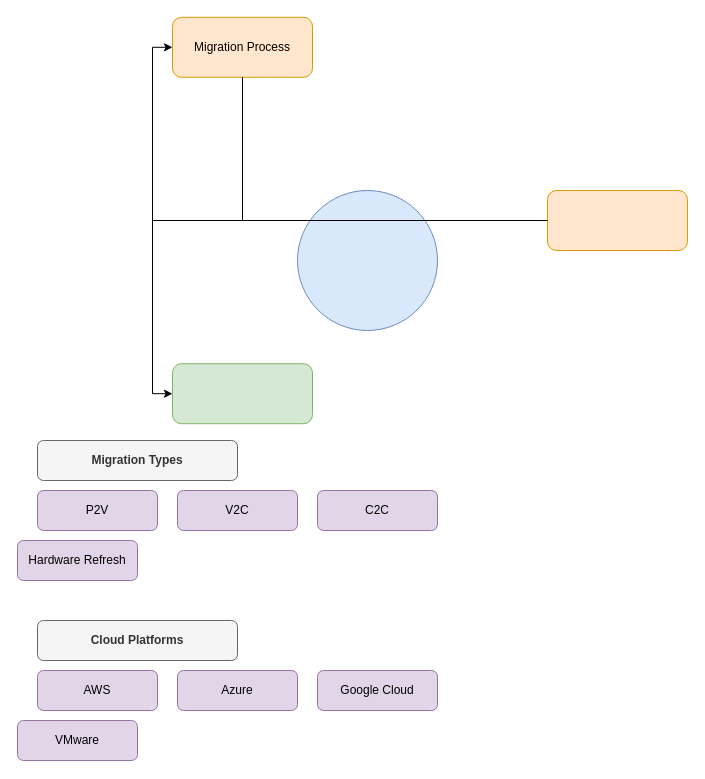
Image size: 705x779. Some labels were removed from this diagram. The centre of each missing label's shape, as x and y in pixels:
"RiverMeadow Platform" belongs at [367,260].
"Source Environment" belongs at [617,220].
"Target Environment" belongs at [242,393].
